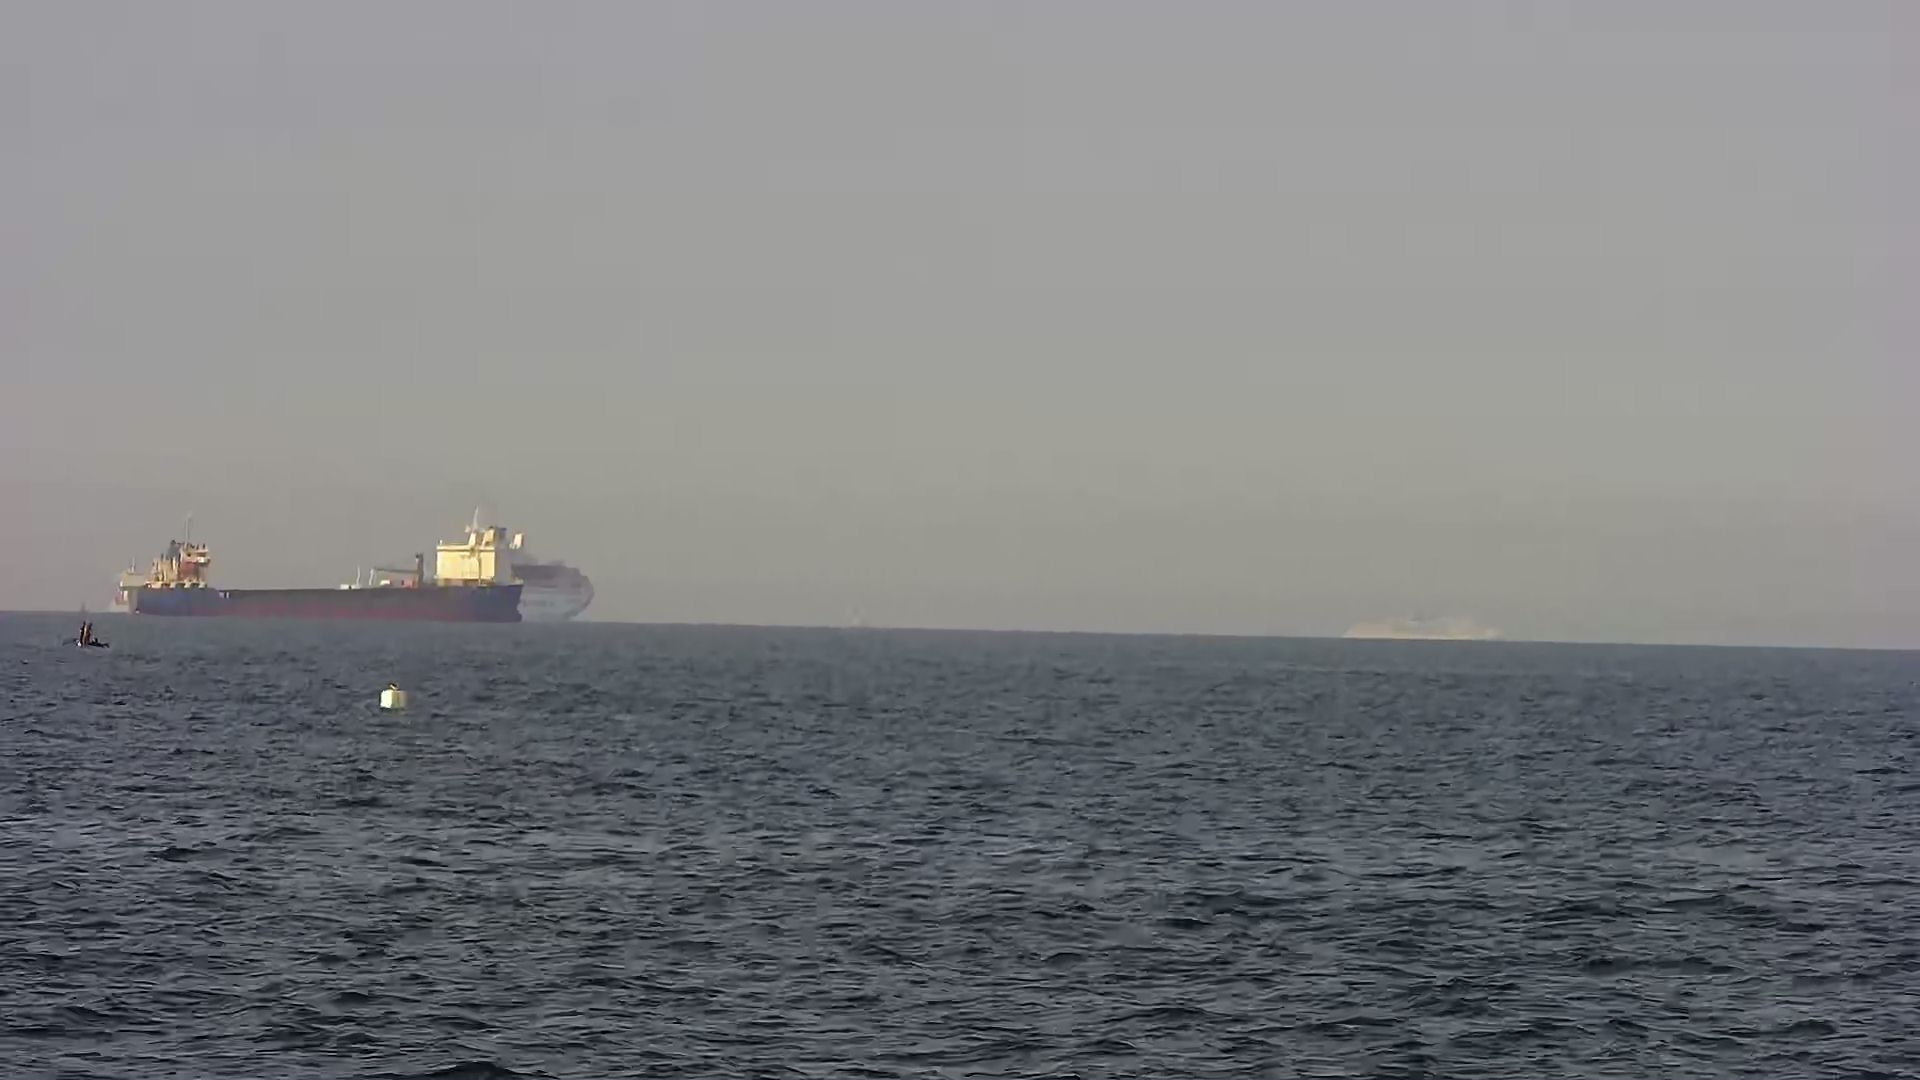platform: (65, 622, 111, 657)
rubbish: (371, 684, 415, 715)
ship: (105, 516, 601, 626)
